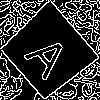A: (23, 26, 80, 82)
